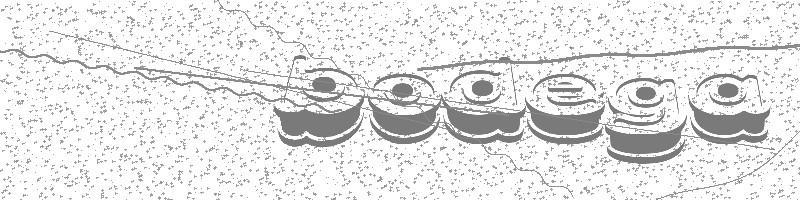a: (689, 73, 769, 144)
b: (274, 55, 364, 148)
d: (442, 57, 525, 146)
e: (527, 73, 604, 143)
g: (605, 76, 689, 163)
o: (367, 73, 441, 144)
